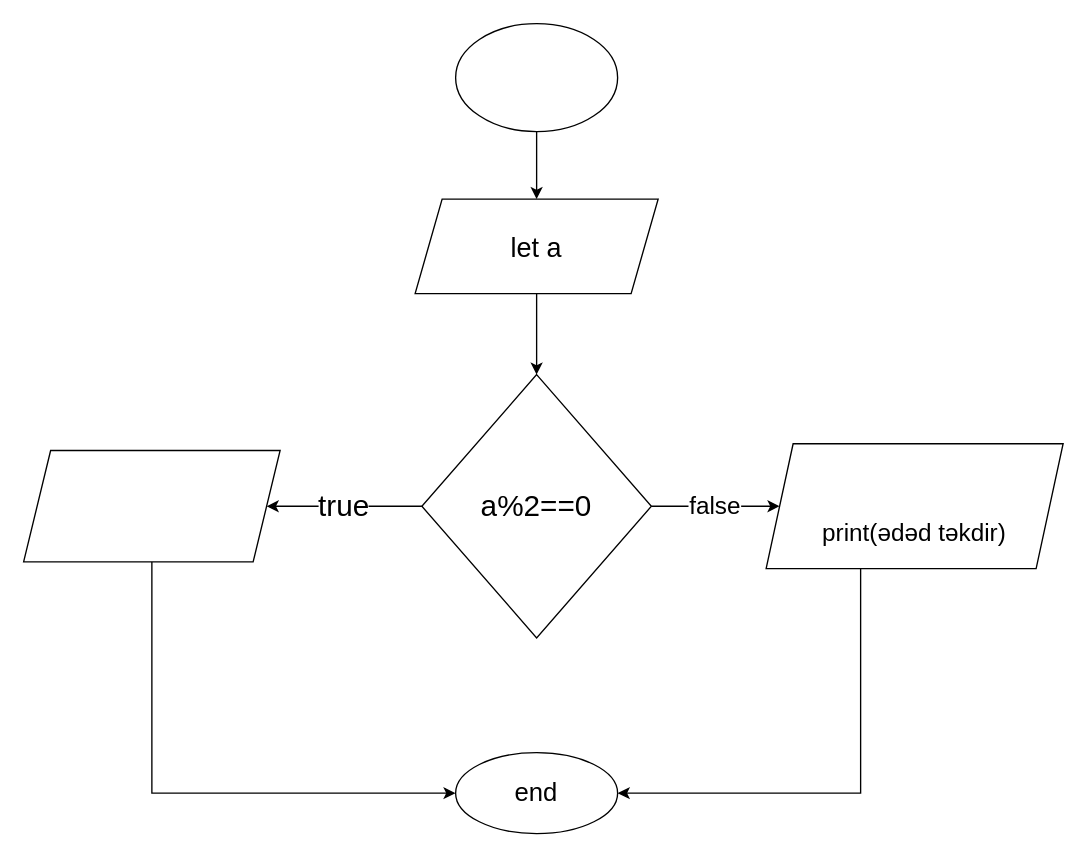
Image size: 1087x857. Some labels were removed from this diagram. Here are the shapes that lost their labels. From the top down, the box of each, then its label:
(454, 22, 618, 132): start
(22, 449, 280, 562): print(ədəd cütdür)
